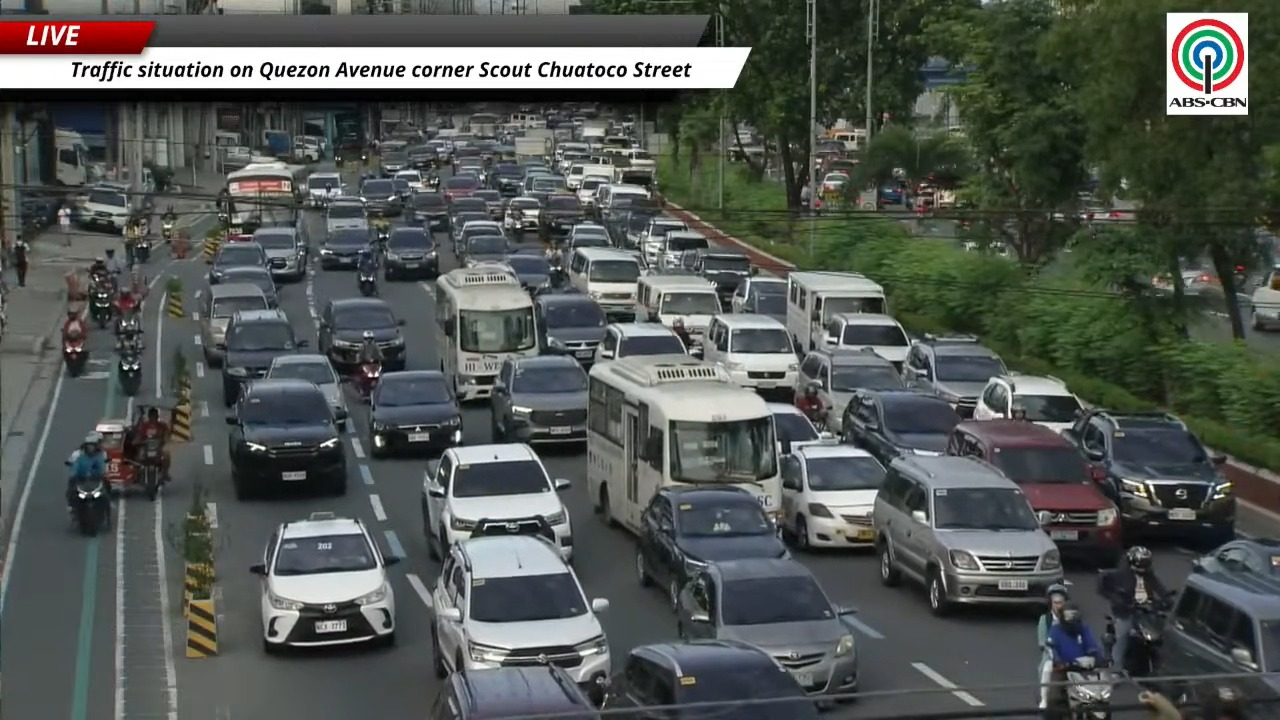bus: (587, 355, 780, 532), (435, 264, 537, 401), (223, 162, 305, 232), (465, 112, 502, 137)
car: (872, 455, 1063, 615), (431, 536, 610, 697), (947, 419, 1123, 566), (677, 558, 857, 695), (1063, 408, 1235, 541), (250, 512, 400, 652), (635, 485, 787, 608), (422, 443, 572, 558), (602, 640, 819, 719), (1158, 570, 1279, 702), (226, 379, 347, 500), (780, 444, 884, 548), (428, 663, 595, 719), (795, 349, 903, 433), (841, 389, 960, 465), (902, 334, 1008, 417), (490, 356, 586, 443), (221, 309, 307, 406), (703, 313, 798, 400), (369, 371, 461, 457), (317, 297, 406, 371), (973, 374, 1081, 431), (200, 283, 270, 367), (266, 353, 348, 423), (535, 293, 606, 365), (822, 314, 909, 372), (593, 323, 687, 361), (692, 247, 751, 306), (1194, 537, 1279, 577), (383, 226, 439, 280), (76, 183, 134, 232), (253, 228, 306, 281), (767, 402, 822, 453), (219, 265, 278, 308), (207, 242, 266, 284), (559, 226, 613, 266), (320, 228, 371, 270), (539, 194, 584, 240), (1250, 266, 1280, 331), (459, 228, 510, 266), (504, 252, 550, 291), (450, 210, 491, 253), (325, 197, 369, 235), (525, 174, 576, 206), (407, 192, 448, 231), (740, 291, 786, 324), (360, 179, 402, 215), (575, 175, 610, 215), (503, 197, 540, 233), (308, 172, 344, 208), (487, 165, 522, 196), (472, 189, 503, 221), (568, 223, 611, 246), (442, 175, 480, 201), (379, 146, 408, 177), (405, 144, 436, 173), (393, 169, 425, 193), (392, 176, 414, 209), (447, 197, 487, 215)
motorcycle: (1056, 656, 1115, 719), (1118, 603, 1166, 679), (70, 477, 109, 536), (136, 438, 163, 500), (117, 345, 141, 396), (62, 337, 88, 377), (89, 286, 113, 328), (356, 363, 381, 401), (803, 408, 826, 432), (358, 271, 377, 296), (134, 239, 151, 263), (375, 225, 389, 250), (162, 220, 174, 241), (427, 174, 441, 192), (335, 154, 343, 168), (361, 153, 368, 166)
truck: (53, 128, 95, 186), (514, 136, 551, 159)
